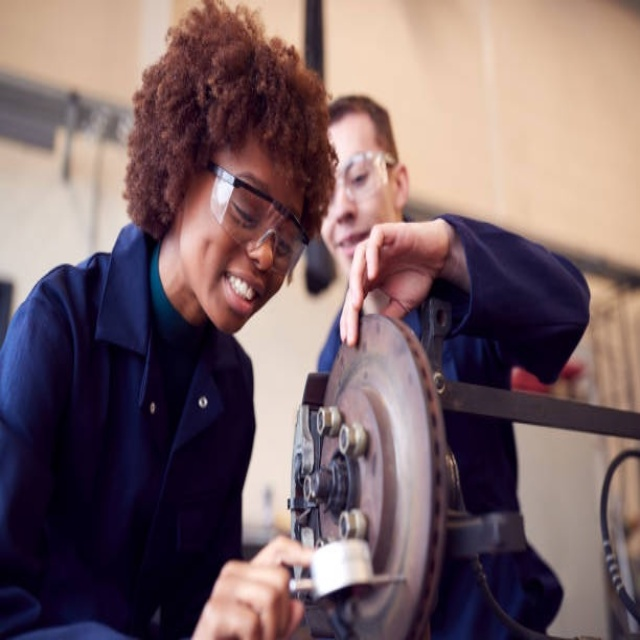Gafas: (207, 163, 310, 281), (331, 148, 399, 203)
Sin_guantes: (337, 217, 452, 341), (192, 535, 313, 640)
Sin_mascara: (210, 259, 269, 328), (334, 218, 366, 267)
